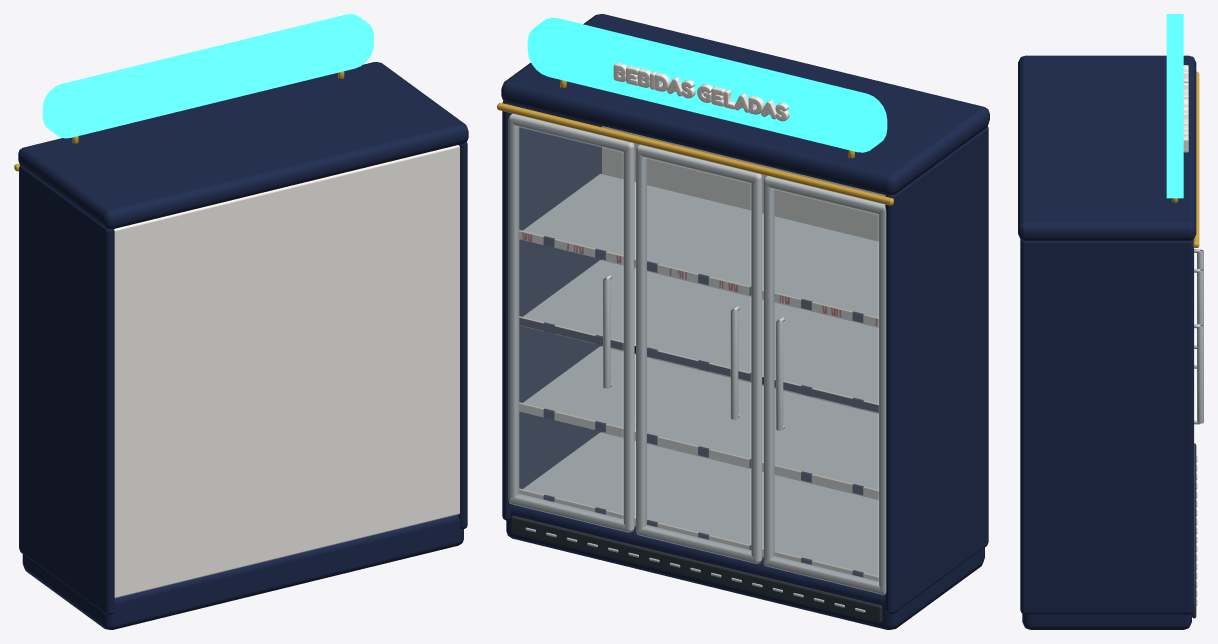
The model's file is shelf-cooler.fbx.
The picture shows the model from 3 angles, left to right: view 1: azimuth 30°, elevation 25°; view 2: azimuth 150°, elevation 25°; view 3: azimuth 270°, elevation 25°; orthographic projection. The views are drawn at different scales.
Parts seen in each view (by area): view 1: Body; view 2: Body; view 3: Body.
Boxes of the visible parts, x1,y1,x2,y2 form: Body: (14,14,468,629); Body: (497,14,989,629); Body: (1018,14,1203,629).
Size of the model in its own units: 1.92 by 2.42 by 0.876.
